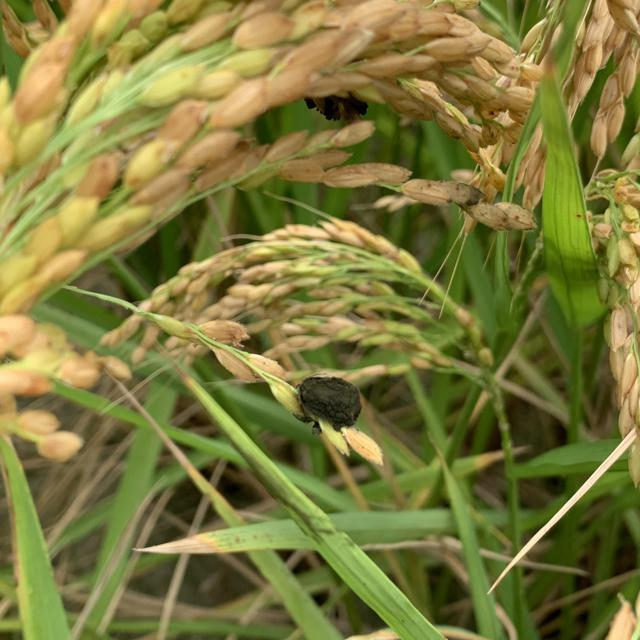Leaf_Scald: (294, 372, 362, 434), (306, 89, 371, 122)
